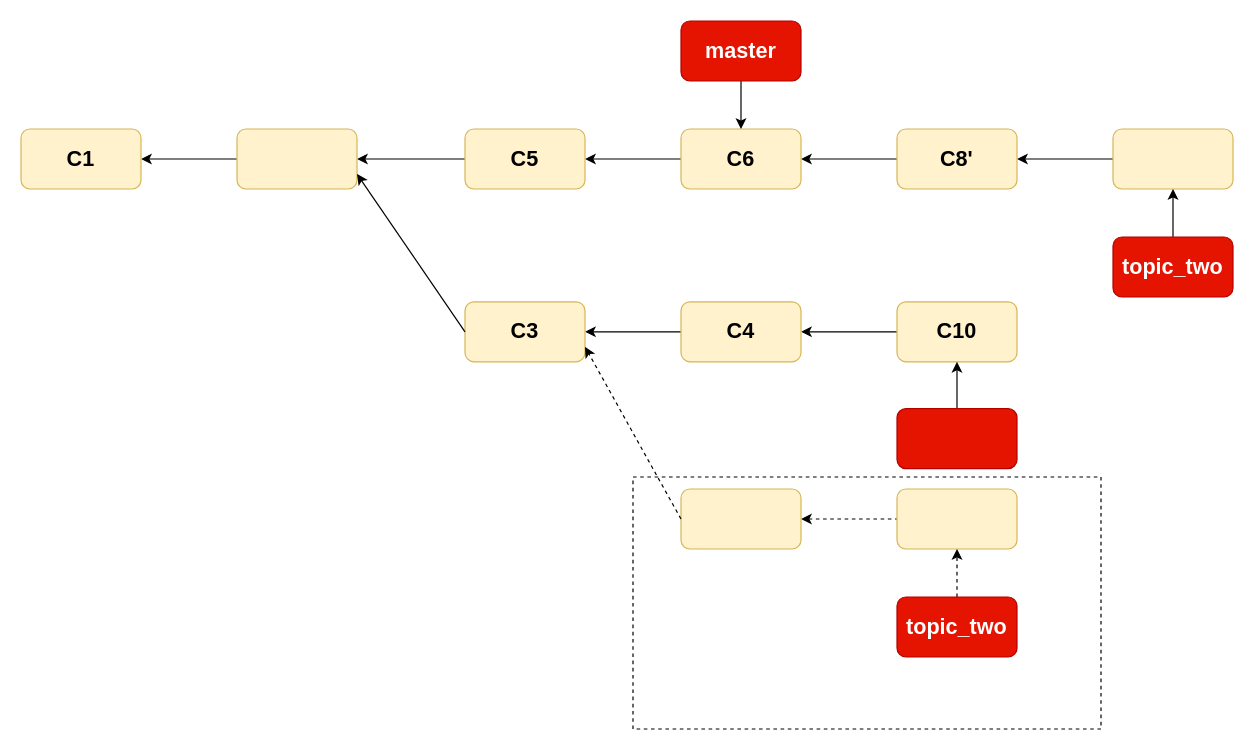
Image size: 1254x750. Some labels were removed from this diagram. Here are the shapes that lost their labels. From the top down, the centre of each, then its label:
point (296, 158): C2
point (1172, 158): C9'
point (956, 438): topic_one
point (740, 518): C8
point (956, 518): C9
